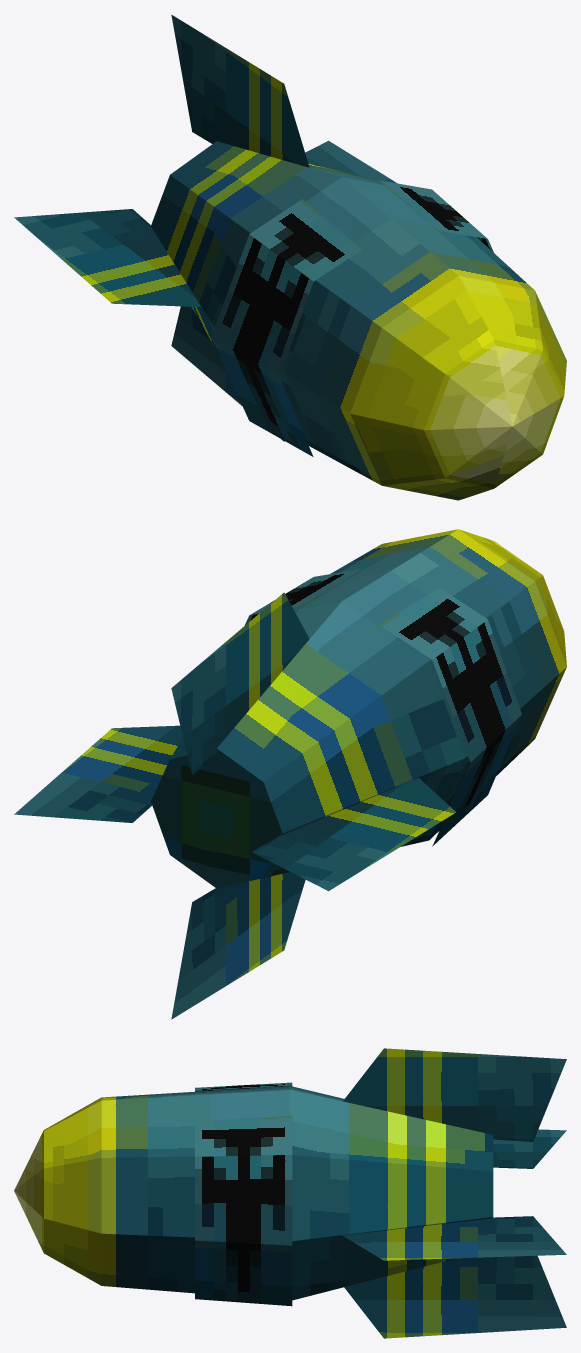
Rendered from X_bomb.obj.
3 renders of one model, top to bottom at view 1: azimuth 30°, elevation 25°; view 2: azimuth 150°, elevation 25°; view 3: azimuth 270°, elevation 25°, orthographic. The views are drawn at different scales.
Visible parts, largest first — view 1: Node 0; view 2: Node 0; view 3: Node 0.
Part boxes in pixels (x1,y1,x2,y2): Node 0: [14, 14, 566, 500]; Node 0: [14, 529, 566, 1019]; Node 0: [14, 1048, 566, 1338].
Bounding box in the file's own units: 1.62 × 1.61 × 2.78.
1 material, 1 textured.
